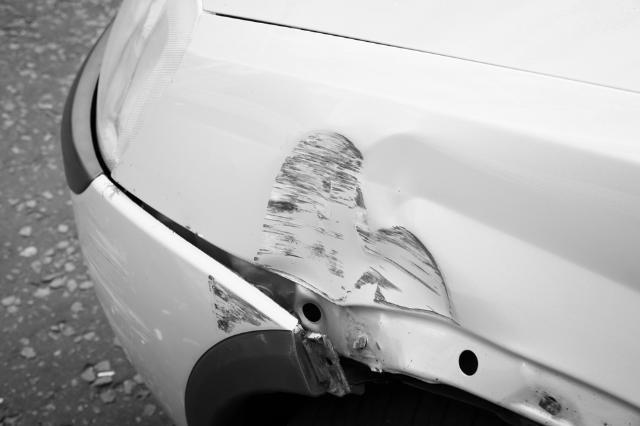Bumper: (63, 166, 357, 426)
Fender: (91, 64, 640, 365)
